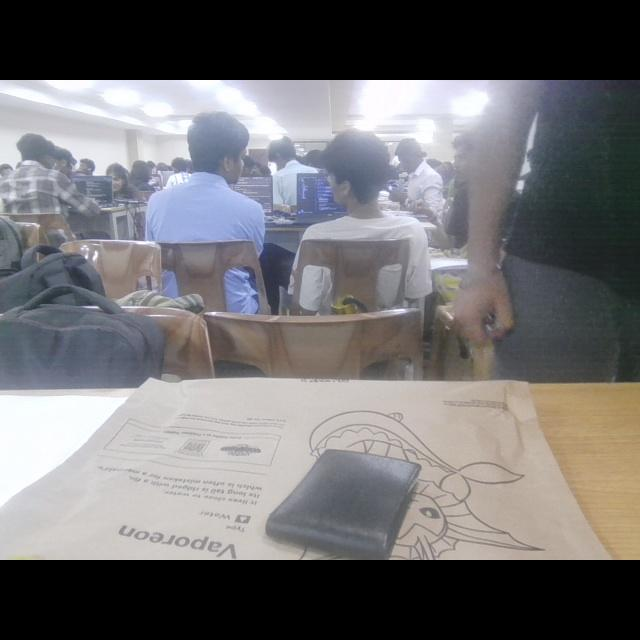wallet: (264, 428, 432, 560)
